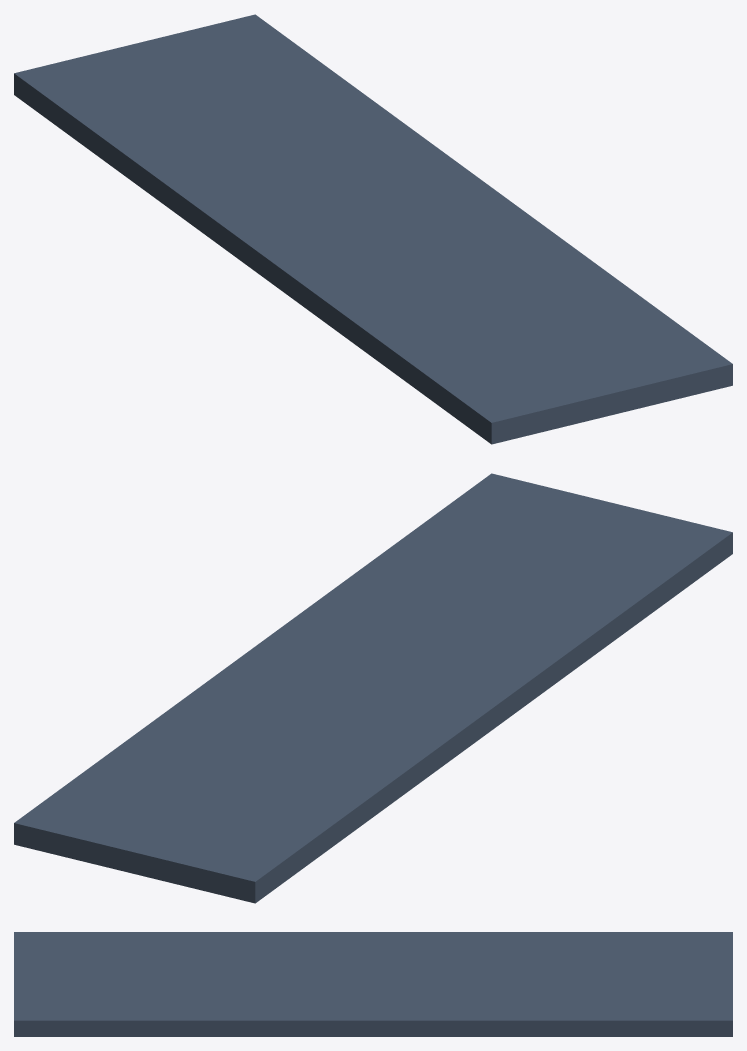
Rendered from floor_003_u_medbay_floor_clean_corridor.obj.
The picture shows the model from 3 angles, top to bottom: view 1: azimuth 30°, elevation 25°; view 2: azimuth 150°, elevation 25°; view 3: azimuth 270°, elevation 25°; orthographic projection. The views are drawn at different scales.
Parts seen in each view (by area): view 1: Floor_003_u_medbay_floor_clean_corridor; view 2: Floor_003_u_medbay_floor_clean_corridor; view 3: Floor_003_u_medbay_floor_clean_corridor.
Part boxes in pixels (x1,y1,x2,y2): Floor_003_u_medbay_floor_clean_corridor: (14, 14, 732, 444); Floor_003_u_medbay_floor_clean_corridor: (14, 473, 732, 903); Floor_003_u_medbay_floor_clean_corridor: (14, 932, 732, 1036).
Bounding box in the file's own units: 2.33 × 0.2 × 8.
